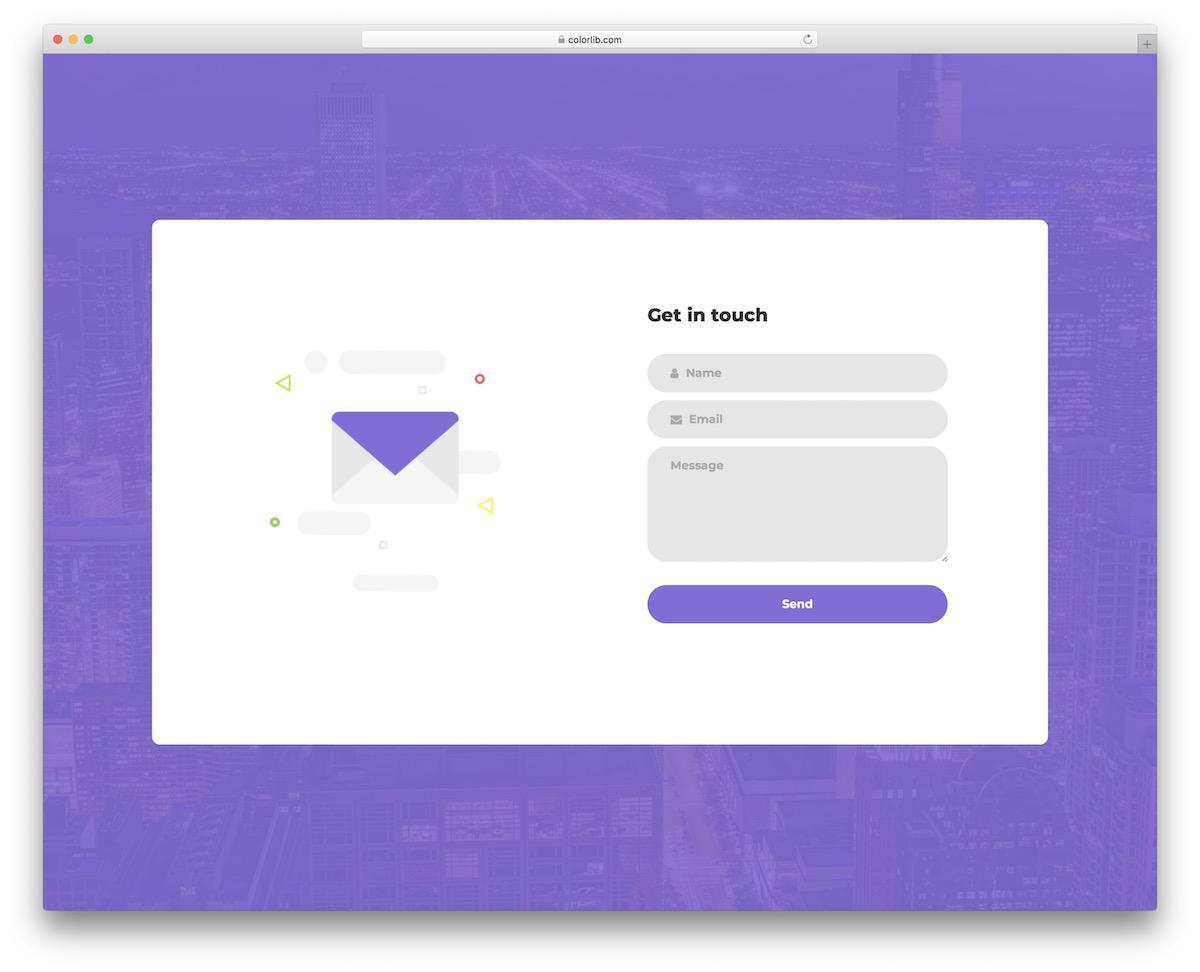button: (647, 588, 950, 625)
input: (652, 353, 950, 393), (647, 404, 949, 438)
label: (642, 300, 781, 329)
